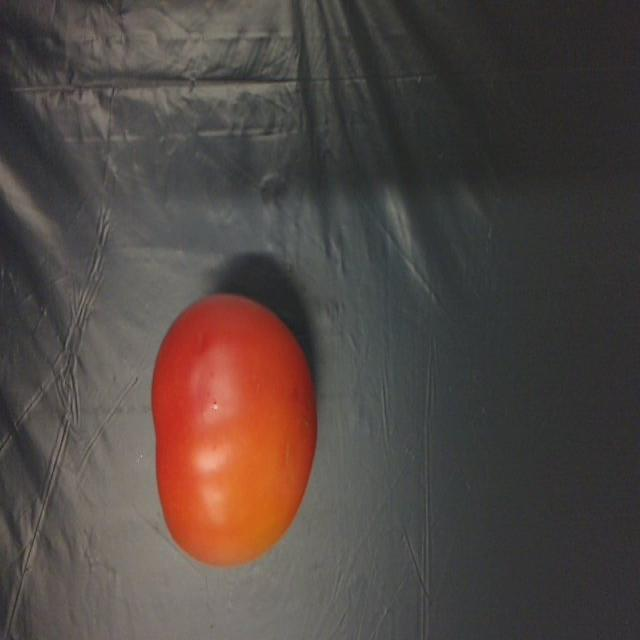sari: (136, 299, 338, 571)
